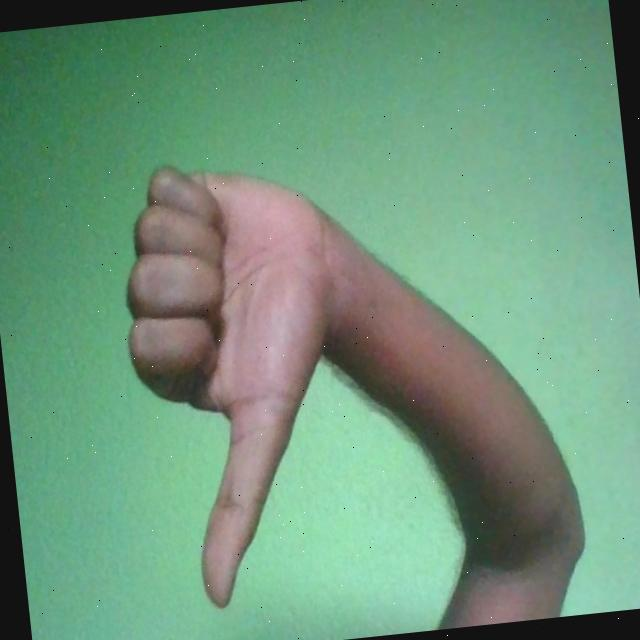Dislike: (110, 143, 368, 614)
